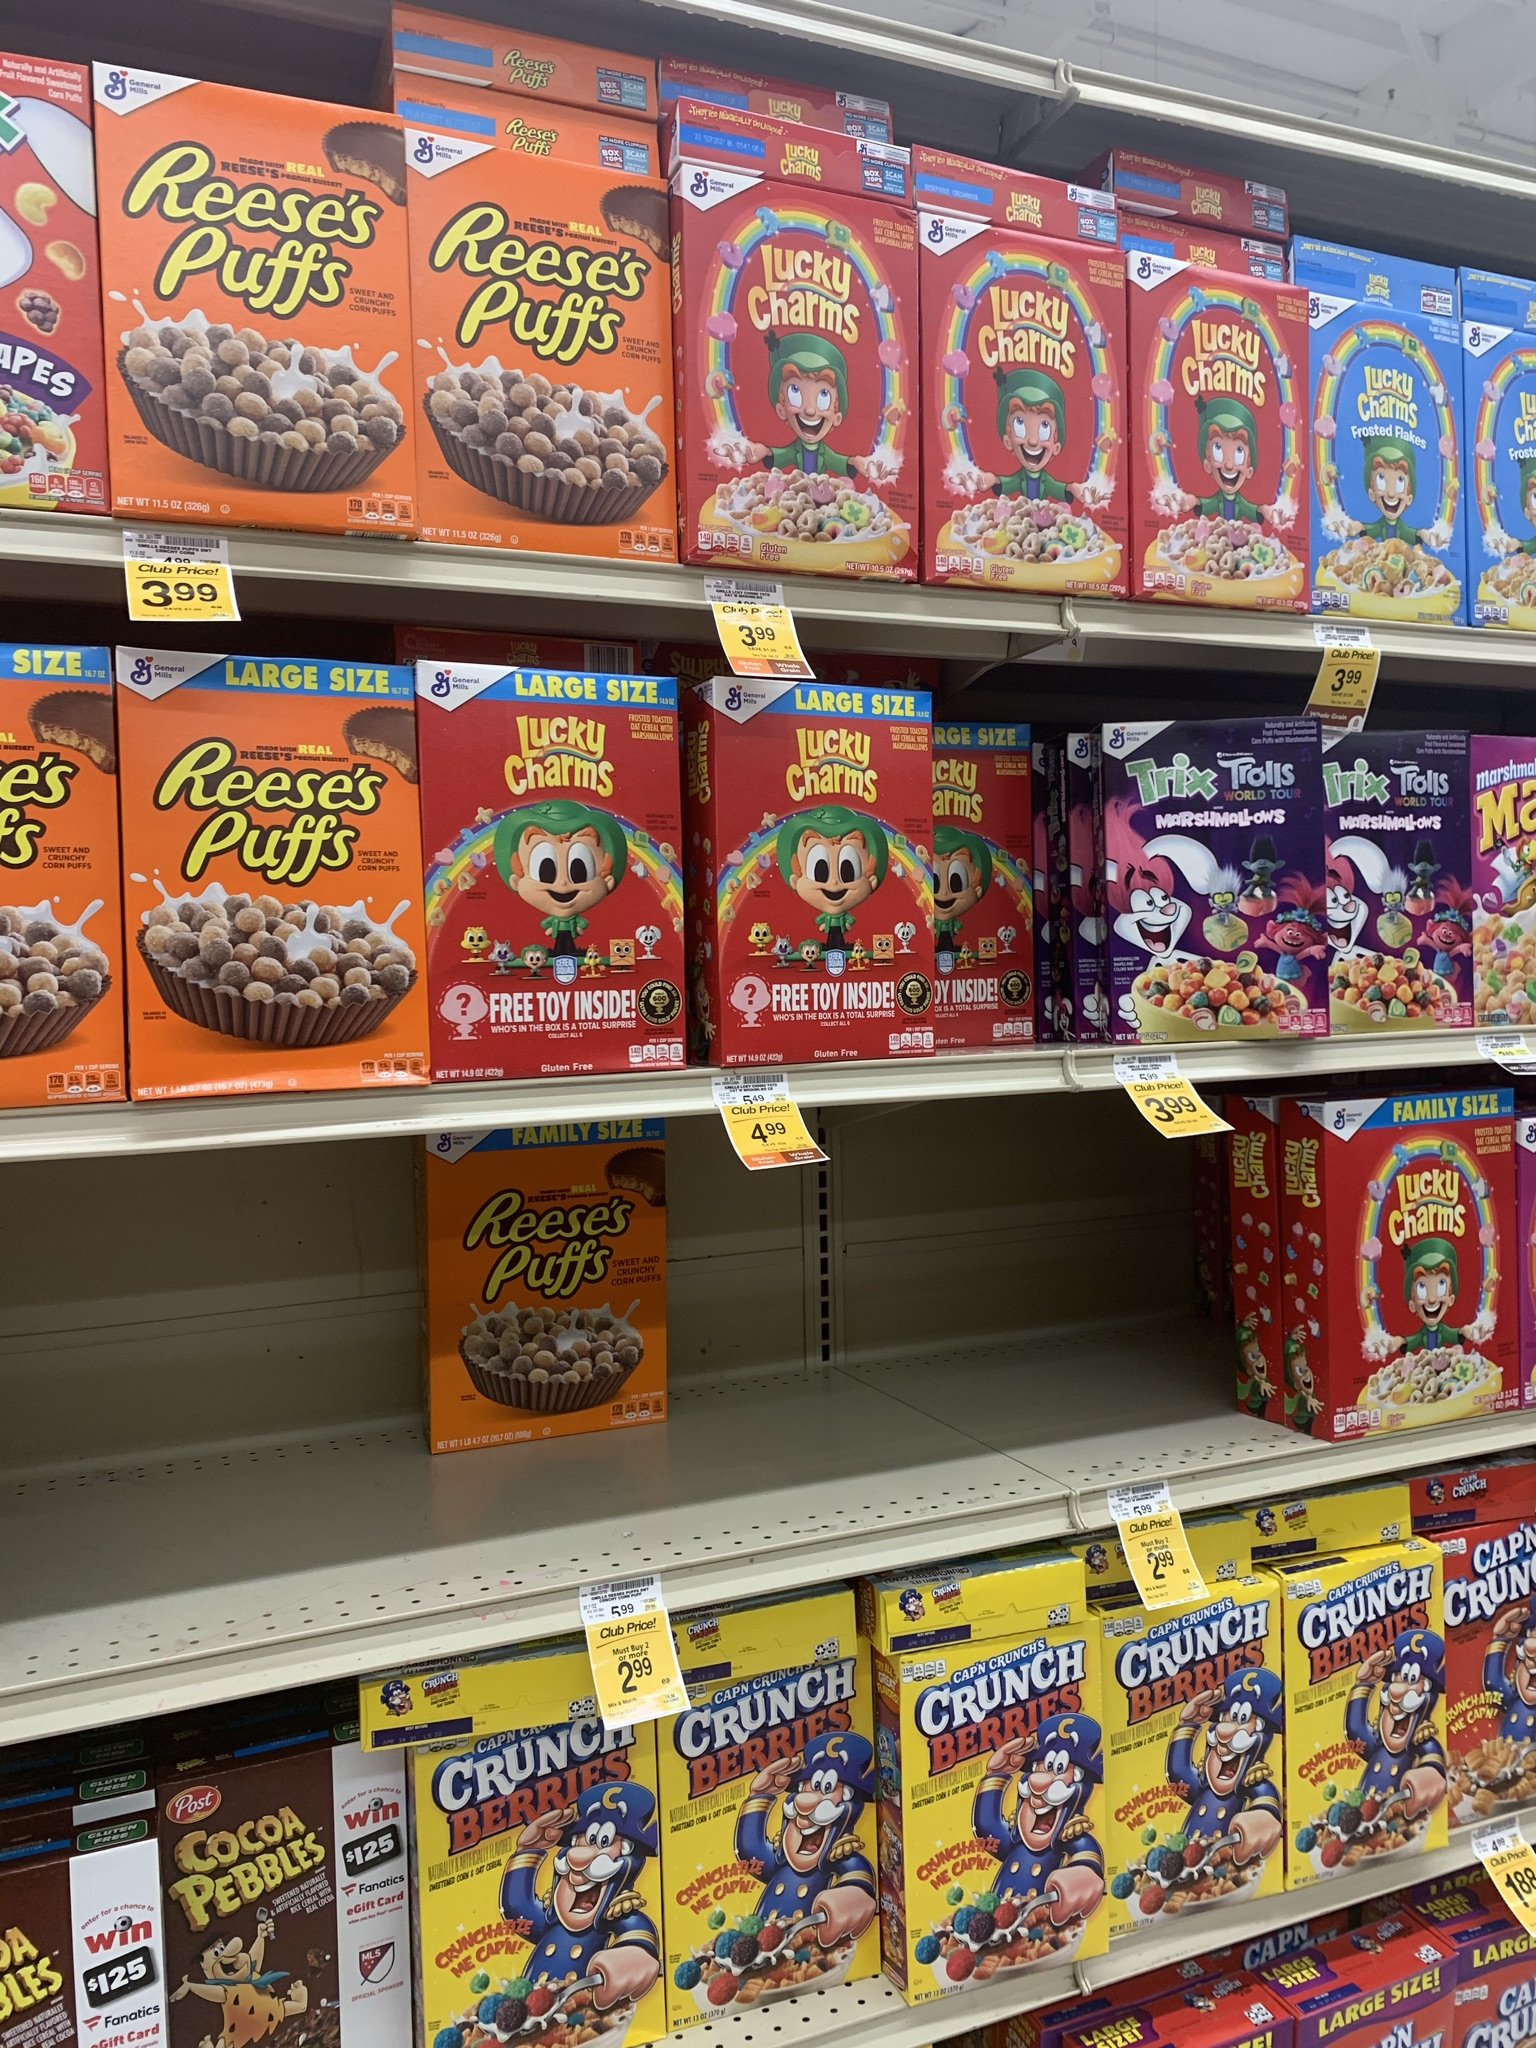cereal: (94, 55, 415, 547), (124, 653, 424, 1113), (405, 114, 670, 568), (423, 660, 687, 1072), (671, 161, 921, 574), (699, 676, 929, 1066), (916, 206, 1118, 598), (416, 1742, 670, 2048), (1117, 234, 1312, 626), (1310, 1087, 1534, 1427), (1092, 714, 1320, 1040), (431, 1132, 670, 1438), (150, 1779, 405, 2048), (900, 1653, 1110, 1974), (676, 1687, 876, 2008), (1300, 282, 1476, 639), (1104, 1608, 1286, 1916), (1320, 714, 1468, 1030), (1286, 1576, 1452, 1850), (918, 726, 1044, 1061), (1425, 1538, 1536, 1825)
